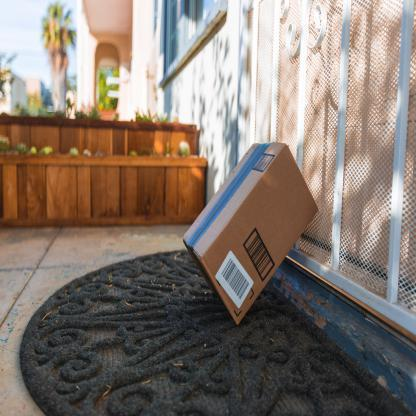package: (179, 135, 327, 336)
